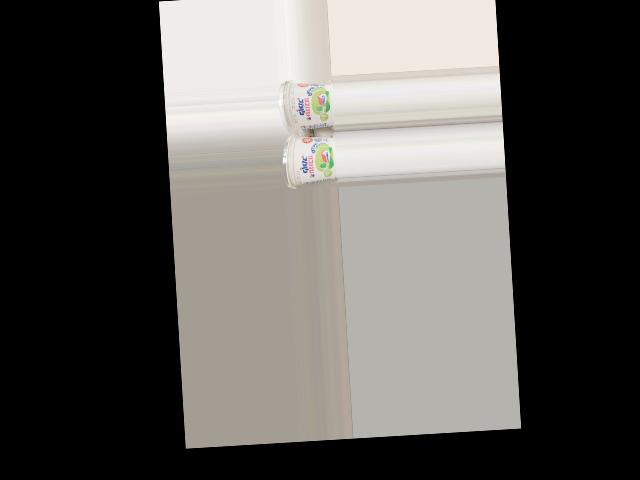cotage: (282, 131, 338, 184)
